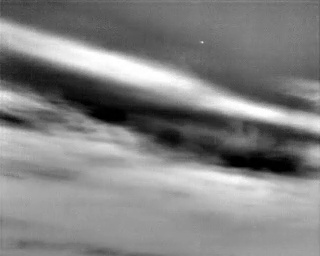BIRD: (198, 38, 206, 46)
